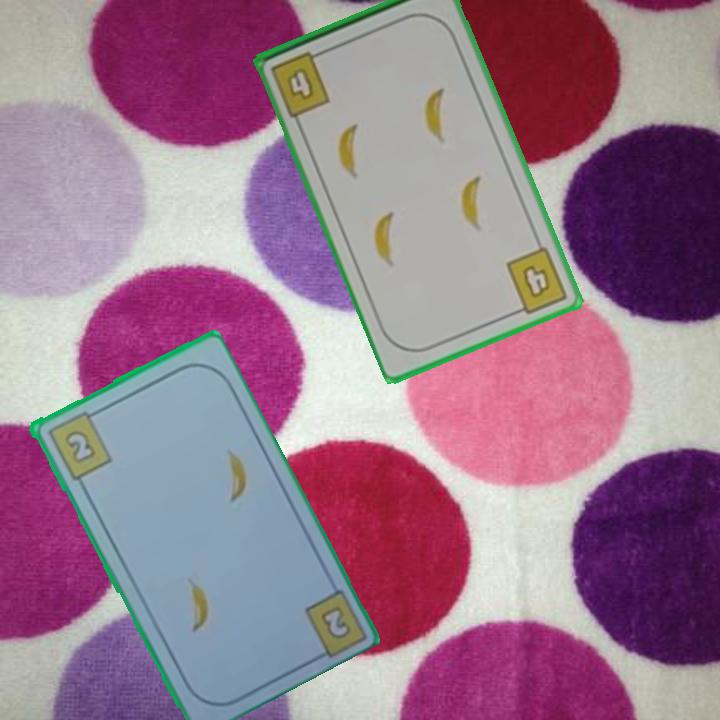2b: (43, 406, 114, 483), (316, 602, 355, 643)
4b: (503, 243, 572, 319), (267, 46, 334, 120)
